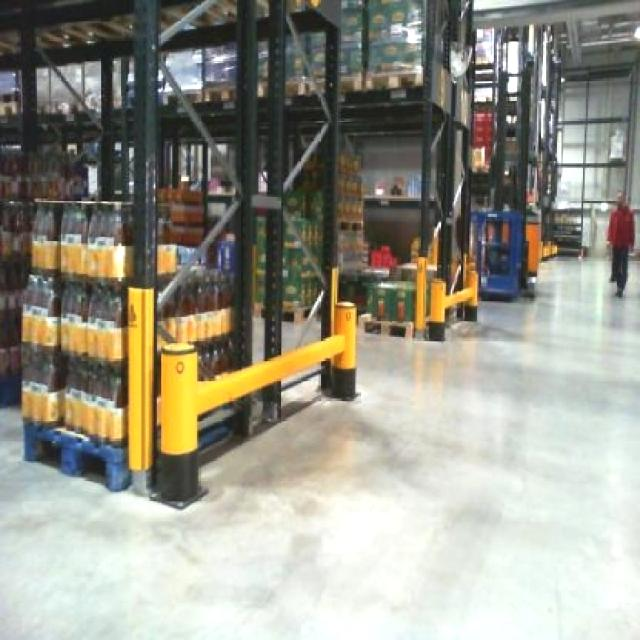floor: (0, 257, 637, 637)
pallets: (20, 198, 152, 488), (158, 258, 231, 374)
